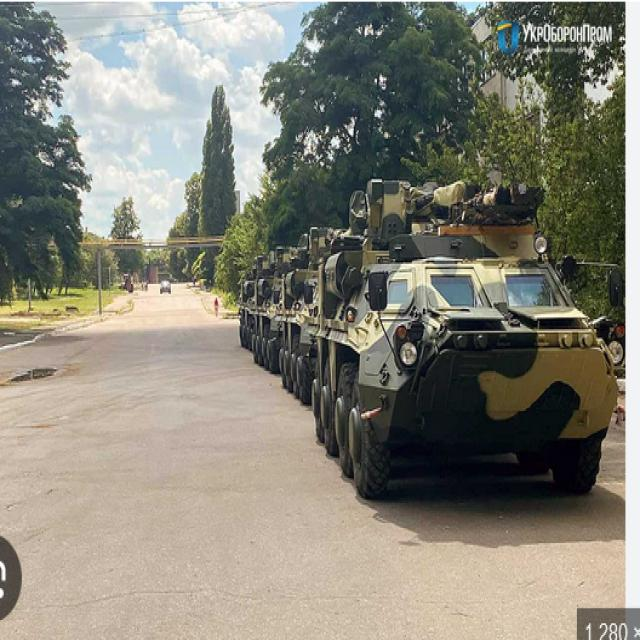MIL_APC: (299, 194, 618, 533)
